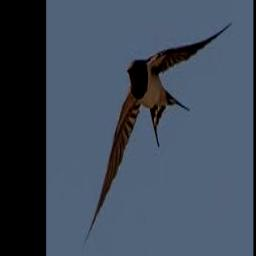Swallow: (83, 23, 233, 248)
